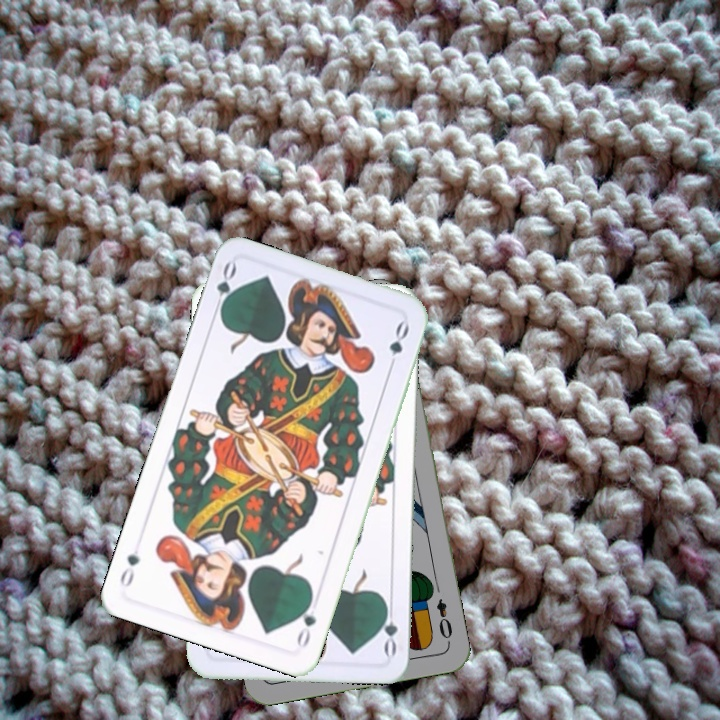EO: (432, 595, 455, 646)
GO: (209, 258, 239, 318), (292, 592, 319, 650), (379, 598, 400, 657)
